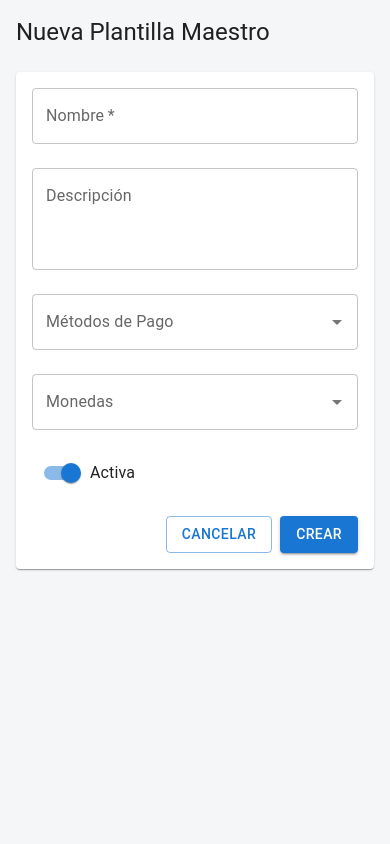
Test: PlantillaMaestroFormPage (react-hook-form + zod) › blocks submit and shows validation when nombre is empty
Click the button "Crear" at (319, 534), box [280,516,358,552]
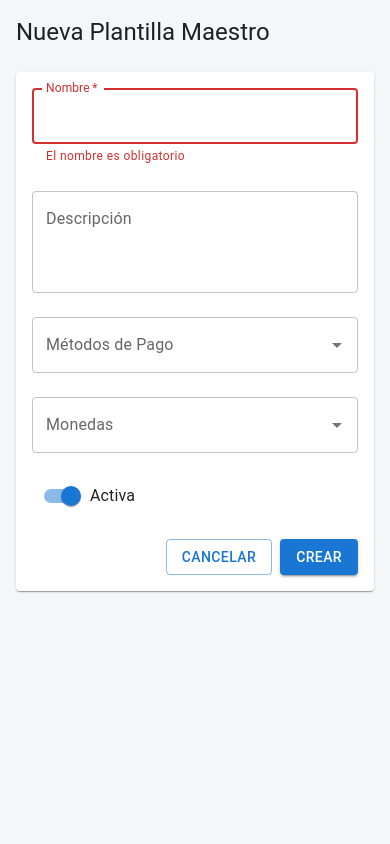
Result: the text "El nombre es obligatorio" is shown at [46,149,185,163]
